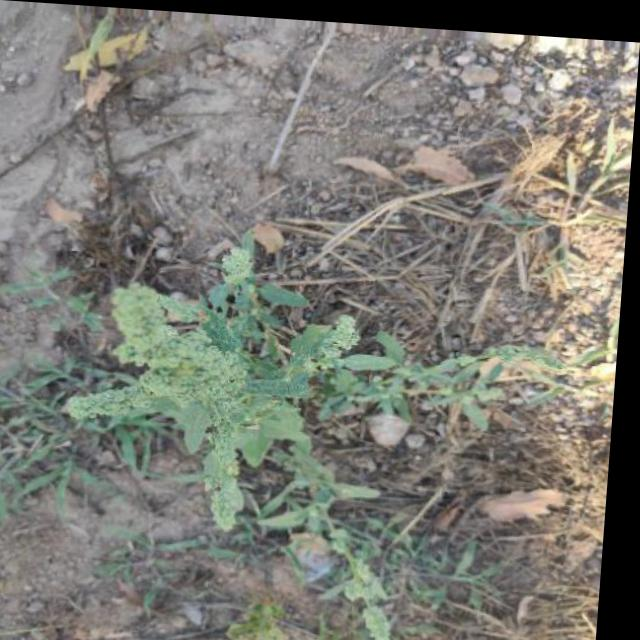weed: (90, 274, 457, 557)
